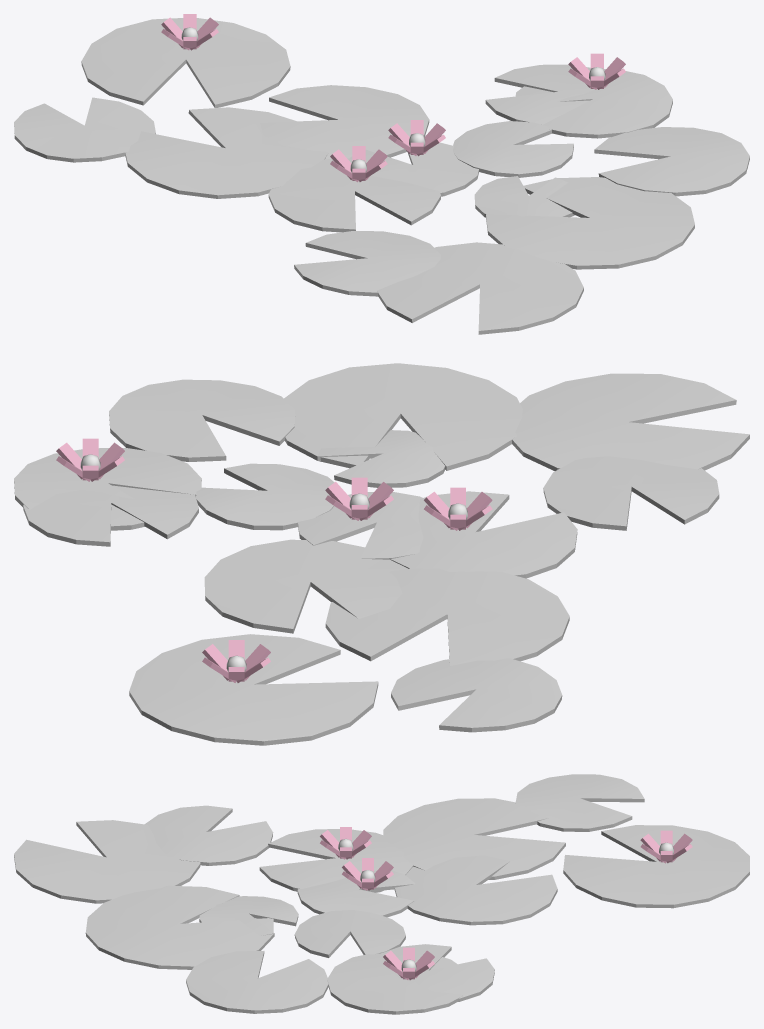
Rendered from LilyPads.fbx.
3 views of the same model, one above another, from view 1: azimuth 30°, elevation 25°; view 2: azimuth 150°, elevation 25°; view 3: azimuth 270°, elevation 25° (orthographic). The views are drawn at different scales.
Parts seen in each view (by area): view 1: LilyPads__lily, LilyPads__flower_pink, LilyPads__brass; view 2: LilyPads__lily, LilyPads__flower_pink, LilyPads__brass; view 3: LilyPads__lily, LilyPads__flower_pink, LilyPads__brass.
Part boxes in pixels (x1,y1,x2,y2): LilyPads__lily: (14,18,749,334); LilyPads__flower_pink: (161,14,625,182); LilyPads__brass: (181,27,605,173); LilyPads__lily: (14,363,749,745); LilyPads__flower_pink: (56,438,492,682); LilyPads__brass: (80,454,467,672); LilyPads__lily: (14,774,749,1014); LilyPads__flower_pink: (320,827,692,980); LilyPads__brass: (338,839,673,971).
Size of the model in its own units: 11.7 by 0.7334 by 15.27.
